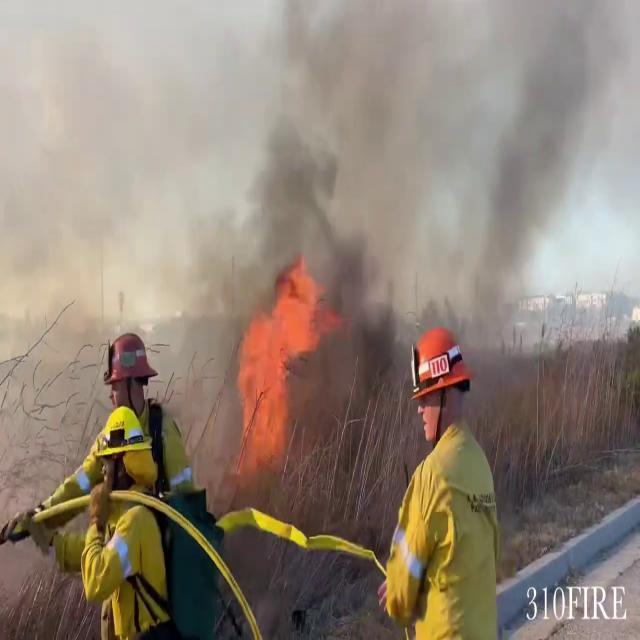Fire: (230, 255, 328, 473)
Smoke: (225, 0, 640, 363)
